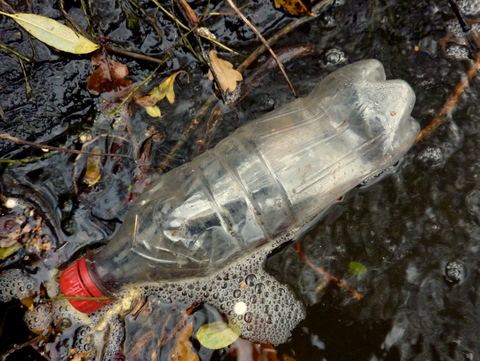plastic_bottle: (57, 53, 424, 316)
